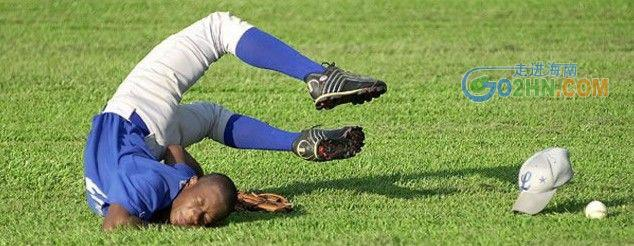fall: (56, 9, 380, 232)
